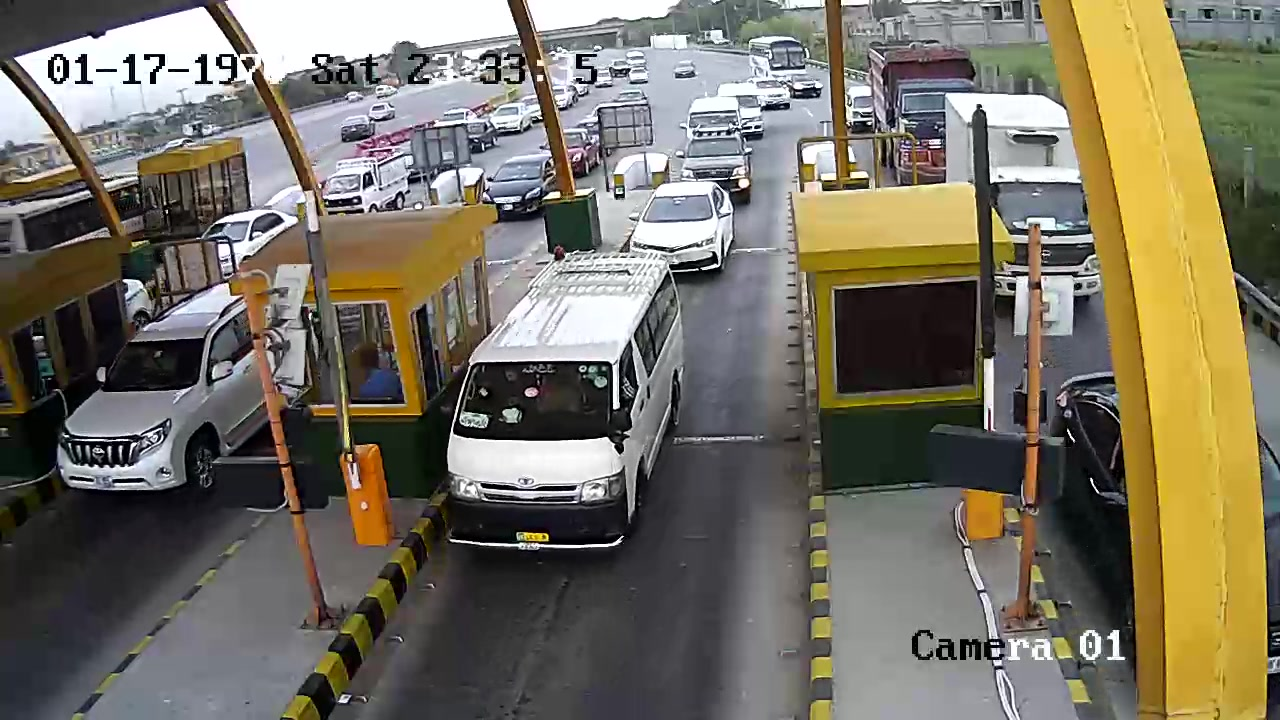F3: (438, 250, 690, 554)
